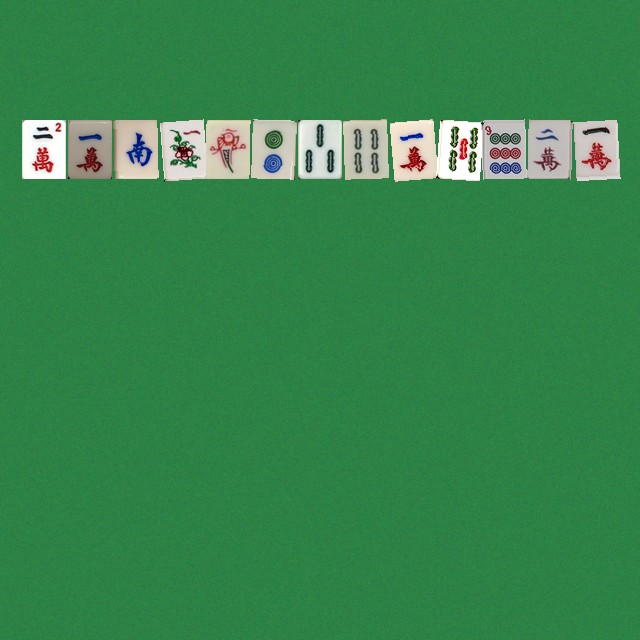tile: (21, 119, 65, 178), (67, 119, 111, 178), (113, 119, 157, 178), (159, 119, 203, 178), (205, 119, 249, 178), (251, 119, 295, 178), (297, 119, 341, 178), (343, 119, 387, 178), (389, 119, 433, 178), (435, 119, 479, 178), (481, 119, 525, 178), (527, 119, 571, 178), (573, 119, 617, 178)
